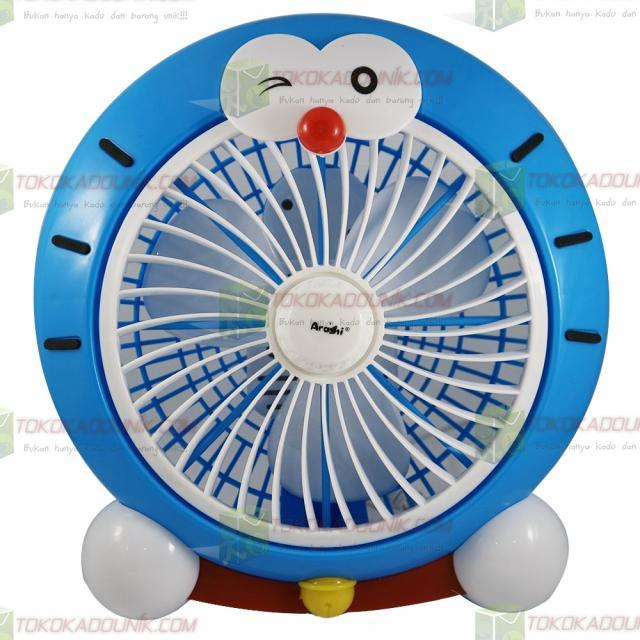fan: (26, 7, 614, 624)
